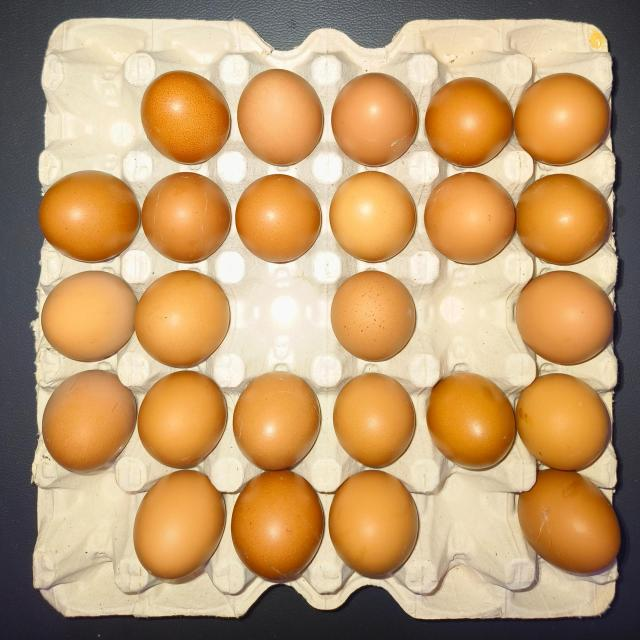Eggs: (128, 59, 232, 165), (39, 370, 138, 481), (129, 476, 231, 581), (422, 374, 518, 480), (234, 476, 326, 586), (520, 477, 622, 575), (328, 476, 424, 580), (42, 168, 142, 267), (138, 274, 236, 374), (513, 270, 617, 364), (233, 370, 327, 474), (423, 65, 515, 171), (518, 376, 612, 475), (323, 274, 422, 366), (238, 169, 327, 271), (520, 70, 612, 168), (145, 168, 234, 264), (424, 174, 518, 264), (334, 171, 421, 268), (334, 66, 419, 165), (333, 371, 418, 470), (520, 170, 609, 264), (243, 63, 325, 164), (40, 276, 135, 363), (142, 376, 228, 469)
